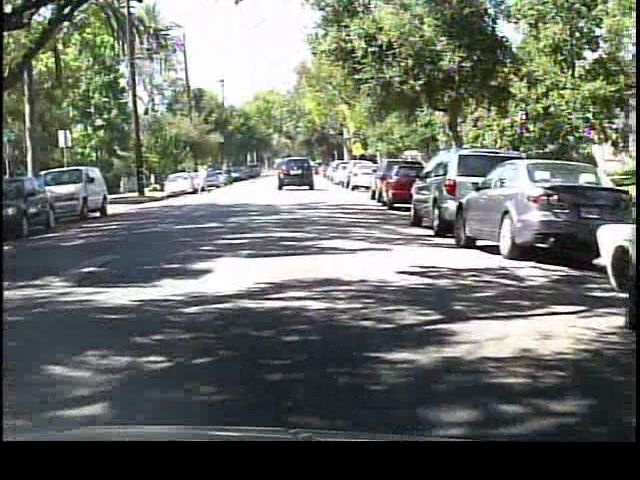person: (192, 160, 212, 198)
